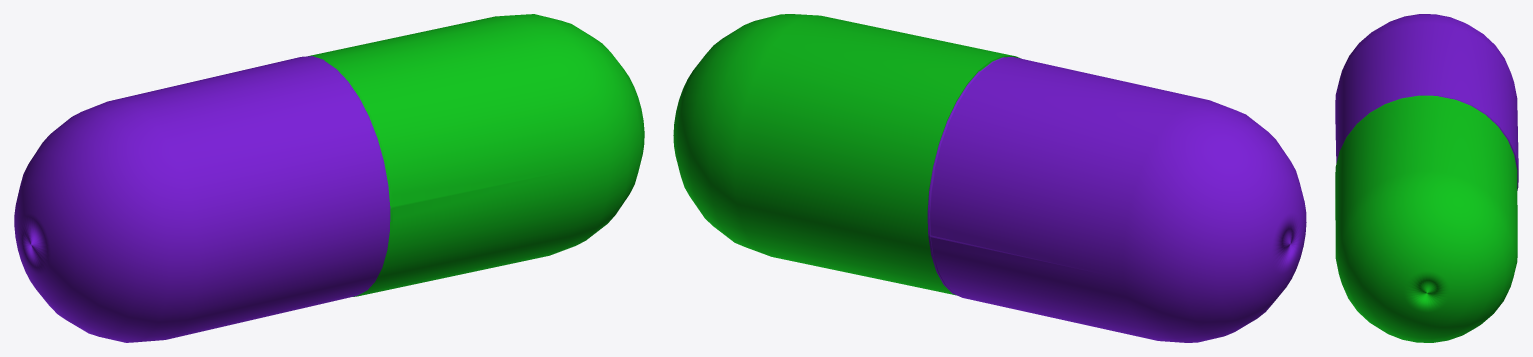
Rendered from pill_gv.fbx.
The picture shows the model from 3 angles, left to right: view 1: azimuth 30°, elevation 25°; view 2: azimuth 150°, elevation 25°; view 3: azimuth 270°, elevation 25°; orthographic projection. The views are drawn at different scales.
Visible parts, largest first — view 1: Cylinder.001, Cylinder.002; view 2: Cylinder.001, Cylinder.002; view 3: Cylinder.002, Cylinder.001.
Part boxes in pixels (x1,y1,x2,y2): Cylinder.001: (14,56,390,342); Cylinder.002: (308,14,644,296); Cylinder.001: (927,57,1306,342); Cylinder.002: (673,14,1020,295); Cylinder.002: (1335,95,1517,342); Cylinder.001: (1335,14,1518,190).
Size of the model in its own units: 562 by 208 by 201.
